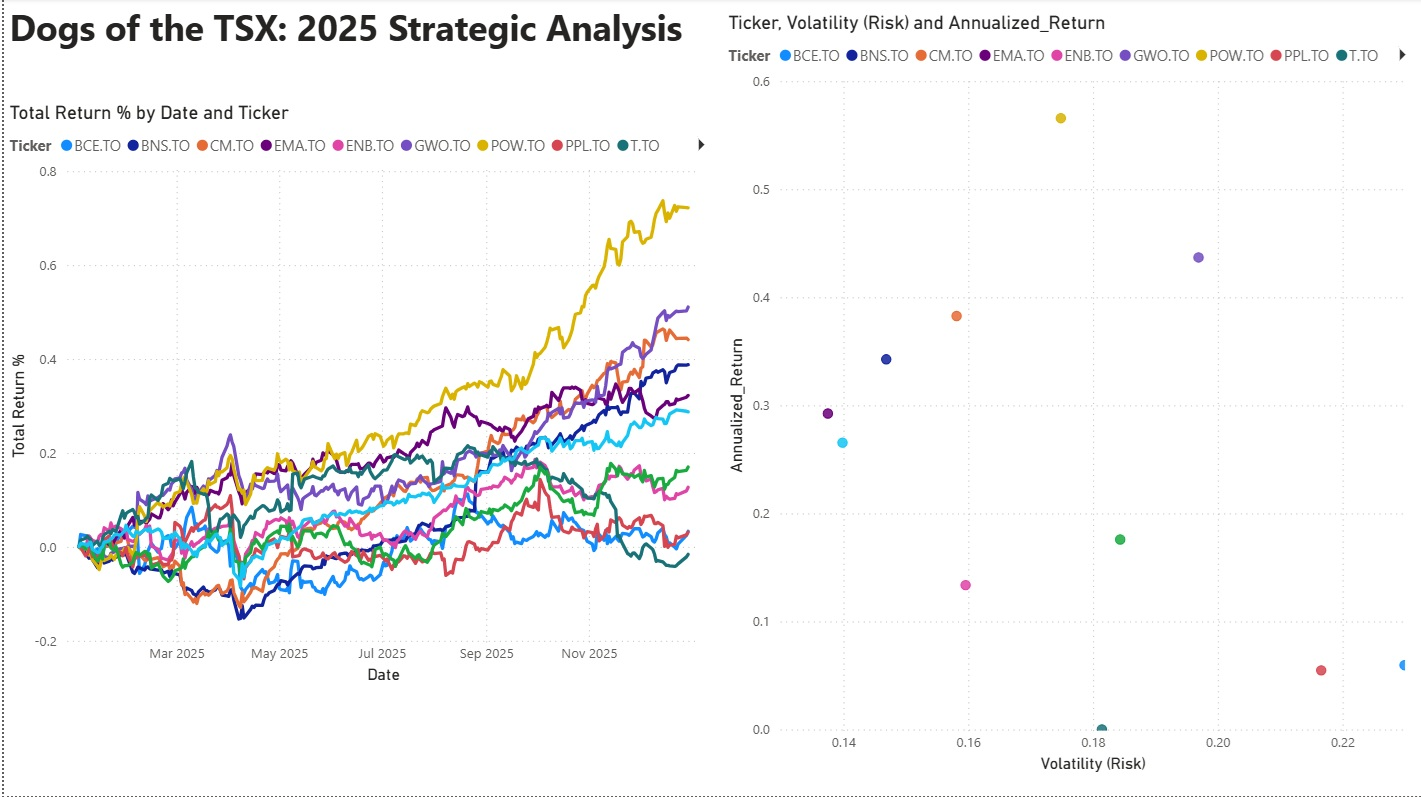

The page's visual inventory and layout, read from the dashboard file:
{"tool":"powerbi","page":{"name":"Page 1","canvas":[1280,720],"ordinal":0},"visuals":[{"type":"lineChart","fields":{"Y":["Dogs_of_TSX_2025_Data.Total Return %"],"Series":["Dogs_of_TSX_2025_Data.Ticker"],"Category":["Dogs_of_TSX_2025_Data.Date"]},"box":[0,93.6,648.1,529.7],"z":0},{"type":"scatterChart","fields":{"X":["Dogs_Risk_Metrics.Volatility (Risk)"],"Y":["Dogs_Risk_Metrics.Annualized_Return"],"Series":["Dogs_Risk_Metrics.Ticker"]},"box":[648.1,12.4,632.3,690.9],"z":1},{"type":"textbox","box":[0,0,640.2,73.3],"z":2}]}

Visuals, with their boxes in screenshot pixels (x1, y1, x2, y2), scaled from the page's 1280x720 canvas onto the 1421x797 screenshot:
lineChart - Dogs_of_TSX_2025_Data.Total Return % x Dogs_of_TSX_2025_Data.Ticker: pyautogui.locateOnScreen(0, 104, 719, 690)
scatterChart - Dogs_Risk_Metrics.Volatility (Risk) x Dogs_Risk_Metrics.Annualized_Return: pyautogui.locateOnScreen(719, 14, 1420, 779)
textbox: pyautogui.locateOnScreen(0, 0, 711, 81)
